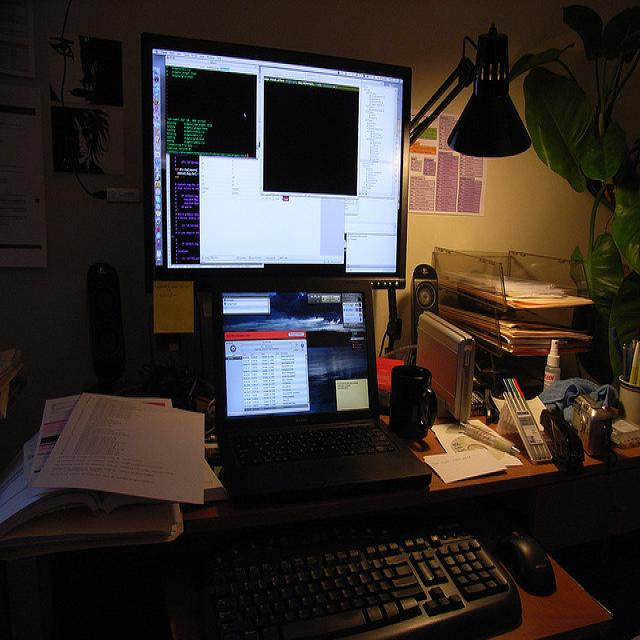Bottle: (78, 246, 138, 383)
Cup: (381, 351, 435, 457)
Table: (0, 349, 637, 640)
